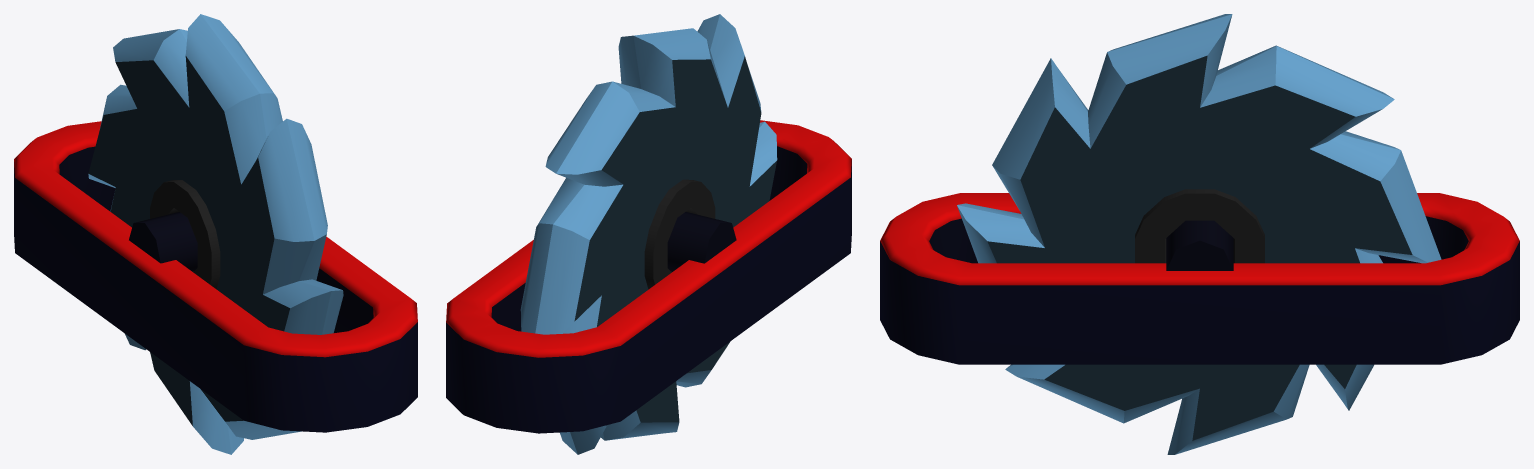
File: maycua.fbx
3 renders of one model, left to right at view 1: azimuth 30°, elevation 25°; view 2: azimuth 150°, elevation 25°; view 3: azimuth 270°, elevation 25°, orthographic. The views are drawn at different scales.
Visible parts, largest first — view 1: _cua, _de; view 2: _cua, _de; view 3: _cua, _de.
Part boxes in pixels (x1,y1,x2,y2): _cua: (88,14,343,454); _de: (14,121,417,432); _cua: (520,14,777,454); _de: (446,120,851,433); _cua: (957,14,1441,454); _de: (880,193,1519,364).
Bounding box in the file's own units: 54.53 × 126 × 166.
